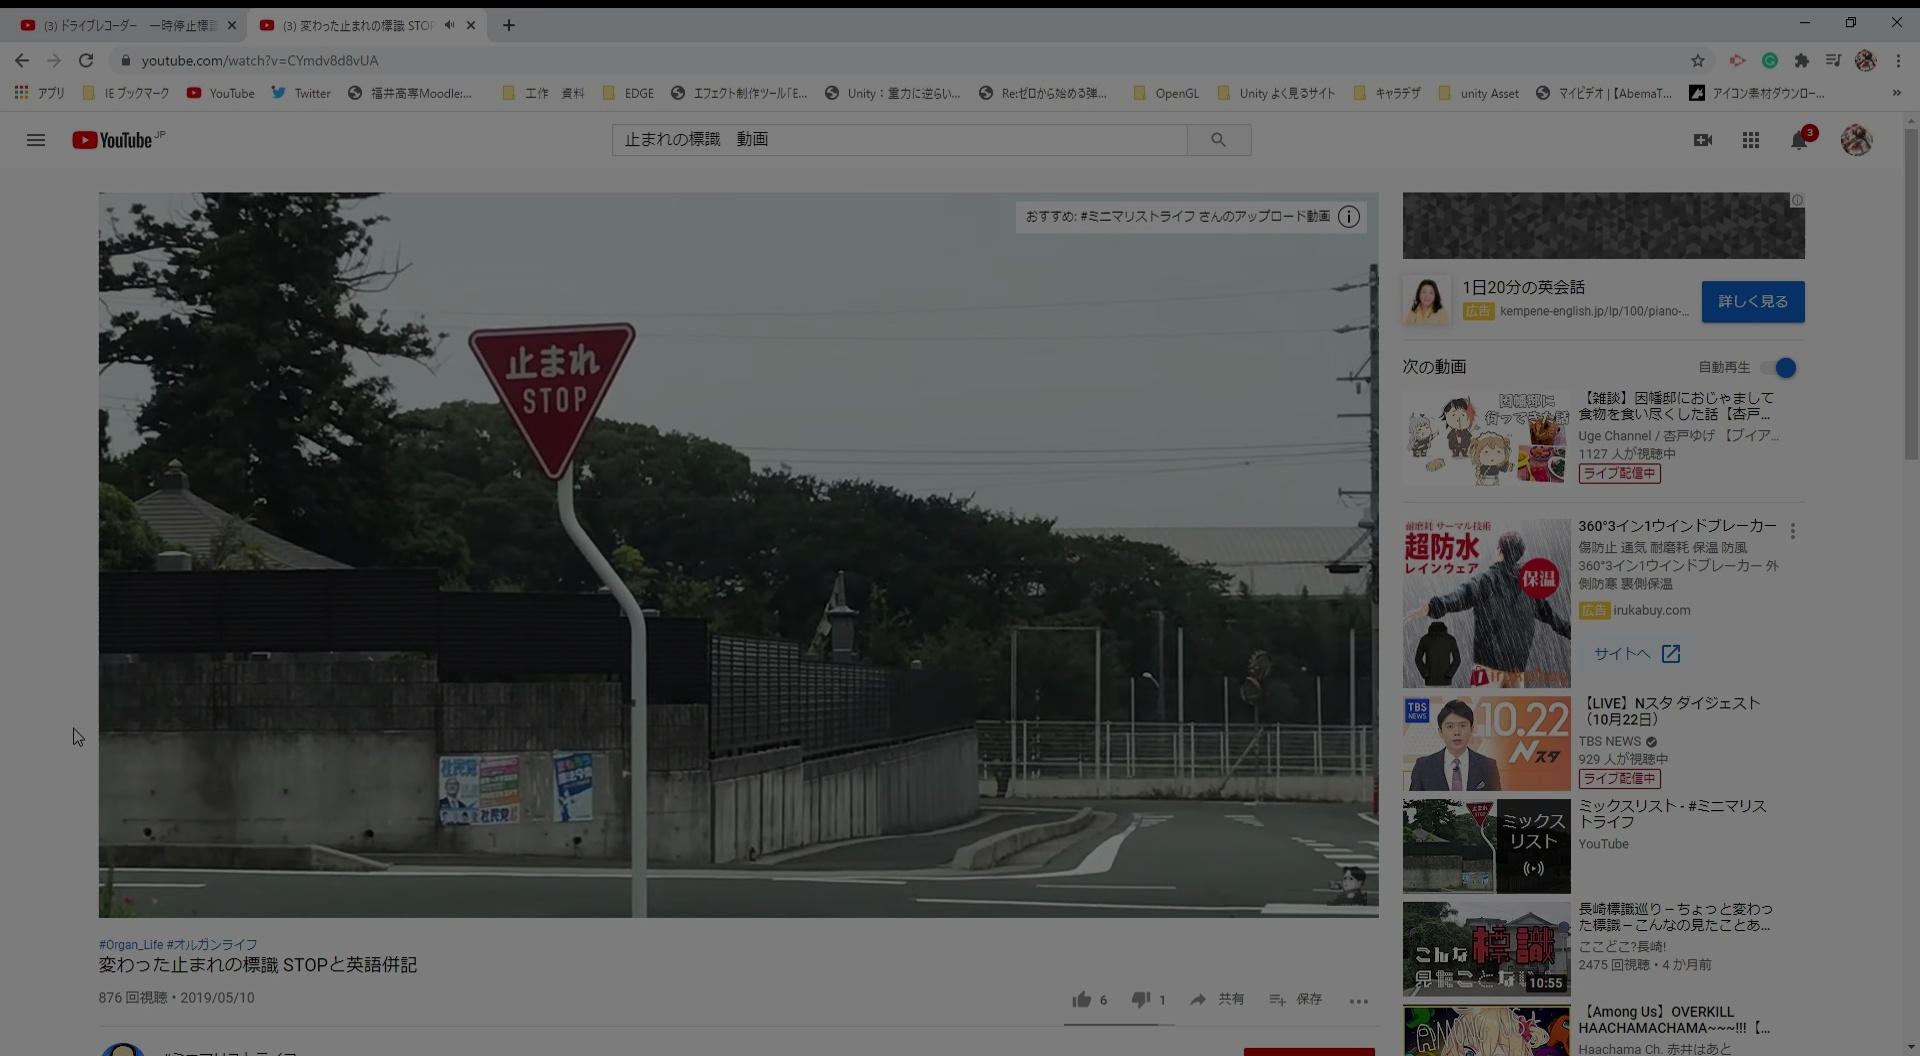Regulatory_sign_triangle: (468, 312, 656, 482)
